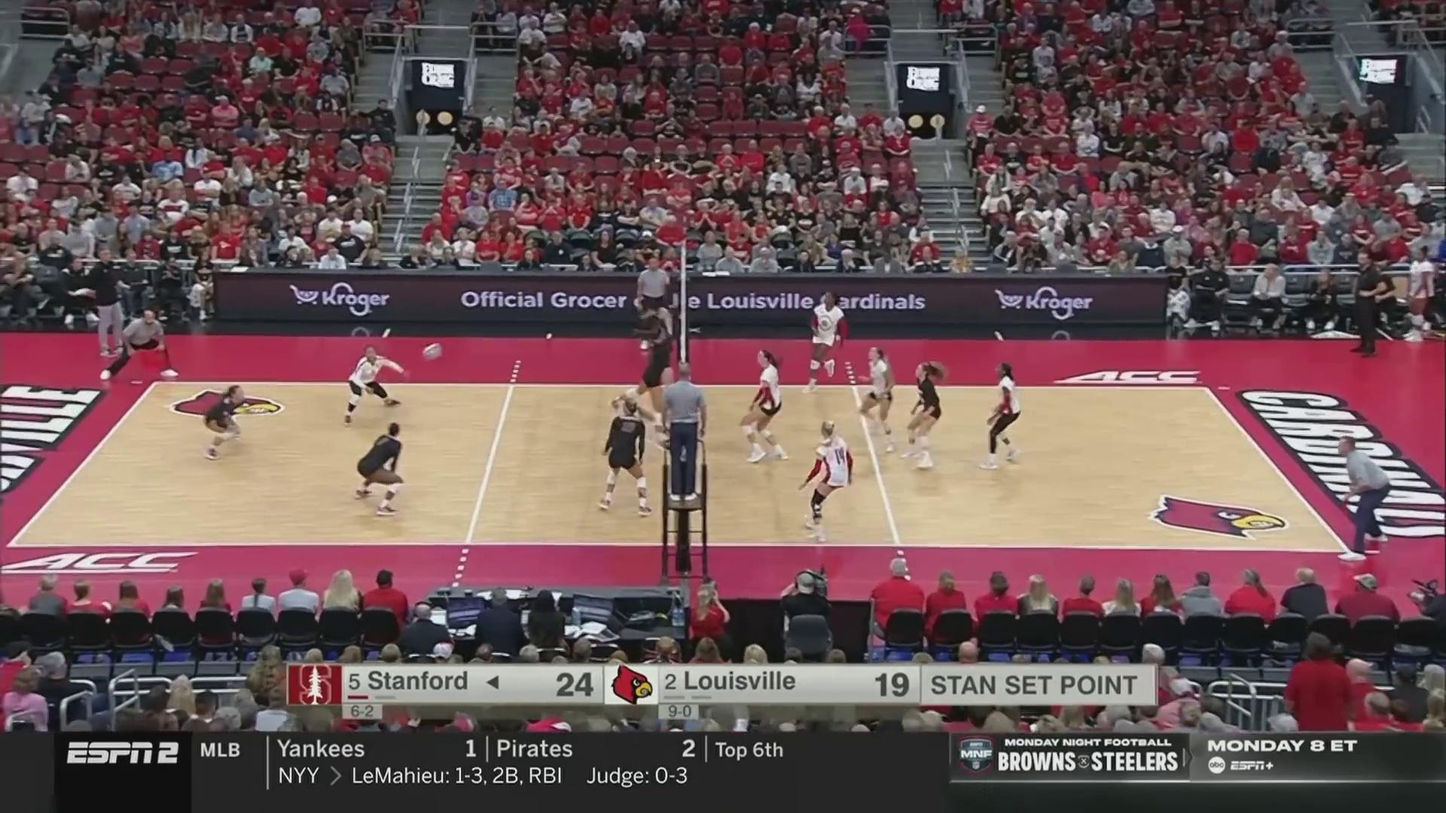player: (612, 312, 678, 448), (791, 423, 855, 537), (600, 395, 659, 513), (742, 354, 793, 466), (356, 423, 410, 517), (195, 388, 260, 462), (906, 361, 950, 468), (983, 363, 1027, 469), (346, 348, 408, 421), (801, 291, 846, 389), (859, 344, 897, 452)
refree: (1331, 439, 1391, 563), (657, 368, 711, 481), (107, 311, 184, 384), (636, 253, 672, 354)
